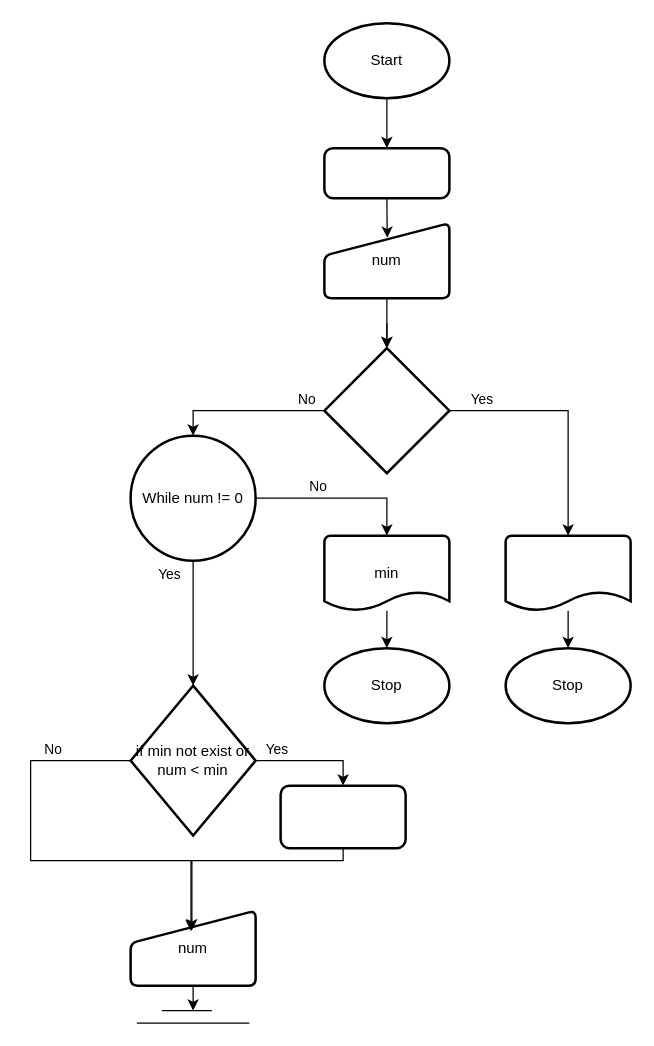
The diagram is 654 pixels wide and 1046 high, and some of its shapes have lost their labels. Each missing label, with the box of its shape:
"empty group": (504, 534, 631, 611)
if num ==0: (322, 346, 450, 474)
min = None: (322, 146, 450, 199)
min = num: (279, 784, 406, 849)
